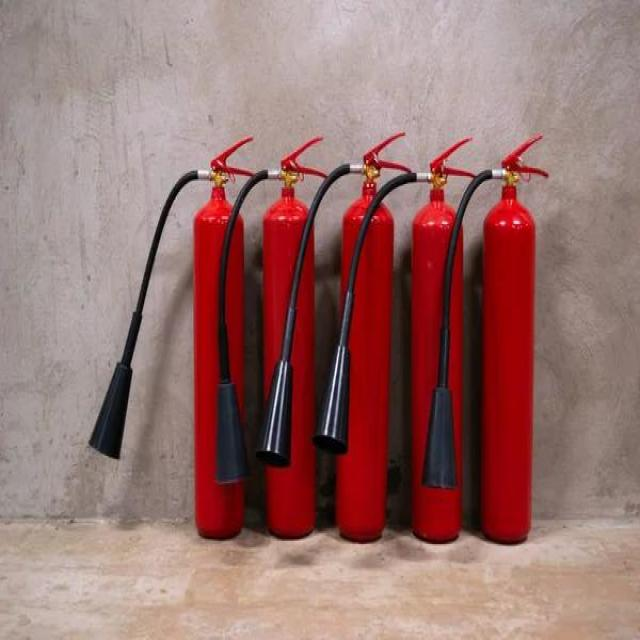fire_extinguisher: (86, 128, 260, 541), (251, 123, 416, 546), (308, 132, 476, 545), (417, 128, 552, 550), (212, 133, 331, 541)
